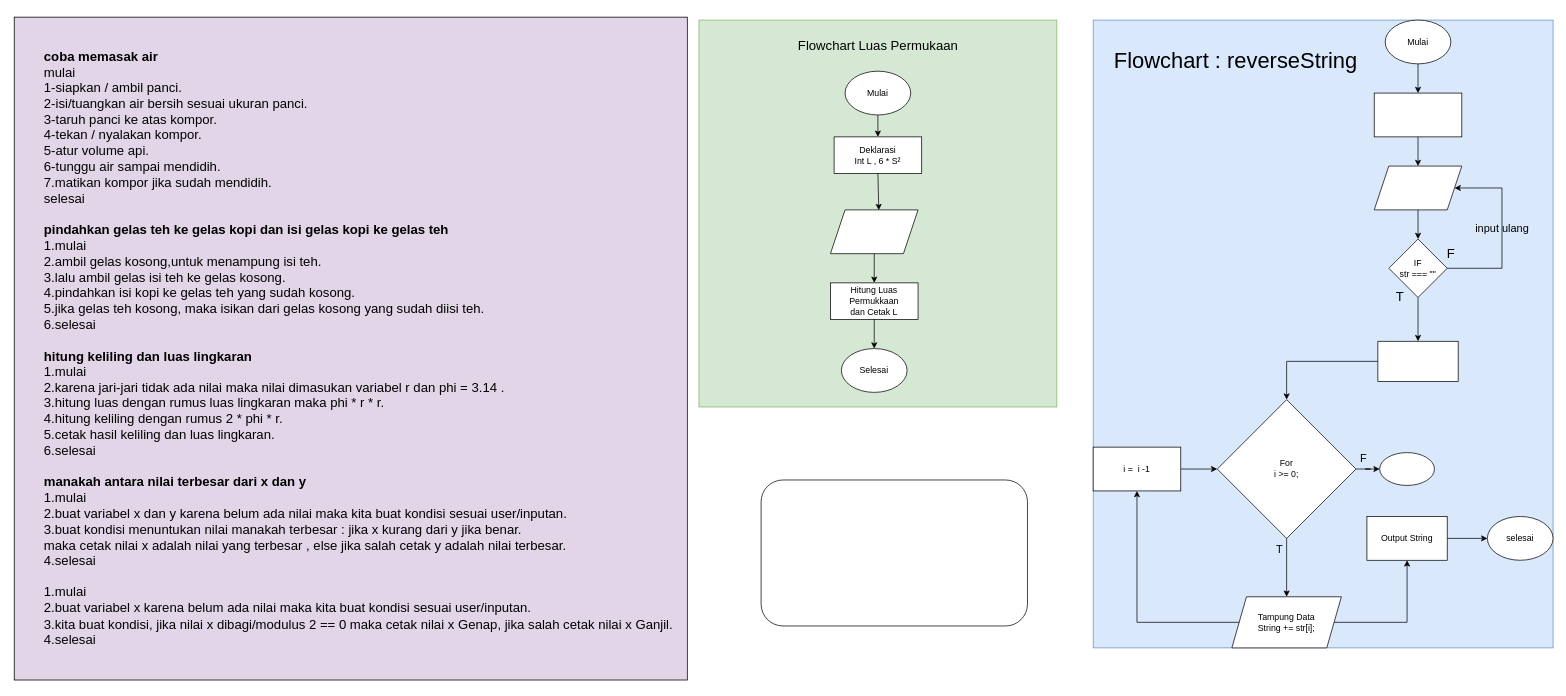
This 1566x696 diagram has some shape labels left out. The shapes that lost their labels are listed below. From the top down, each one's centre as x and y in pixels, then its label:
the point at 1417,114: Deklarasi Penampung Var String
the point at 1417,187: Input Var str
the point at 874,231: Input 6 Sisi * Sisi
the point at 1417,361: Deklarasi i = str.length - 1
the point at 1406,468: STOP LOOPING
the point at 893,552: Tugas Algorithm & Flowchart (Class) *
